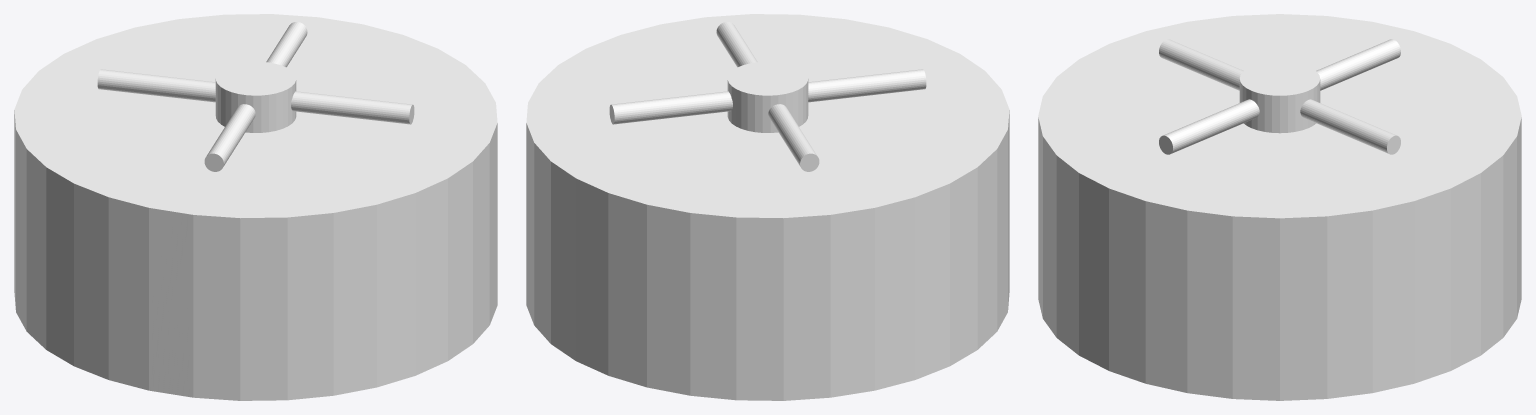
File: GarageDoor.gltf
3 renders of one model, left to right at view 1: azimuth 30°, elevation 25°; view 2: azimuth 150°, elevation 25°; view 3: azimuth 270°, elevation 25°, orthographic.
Visible parts, largest first — view 1: door; view 2: door; view 3: door.
Boxes of the visible parts, <box> form: door: <box>14,14,497,400</box>; door: <box>526,14,1009,400</box>; door: <box>1038,14,1521,400</box>.
Bounding box in the file's own units: 24 × 12.05 × 24.
1 material, 1 textured.
